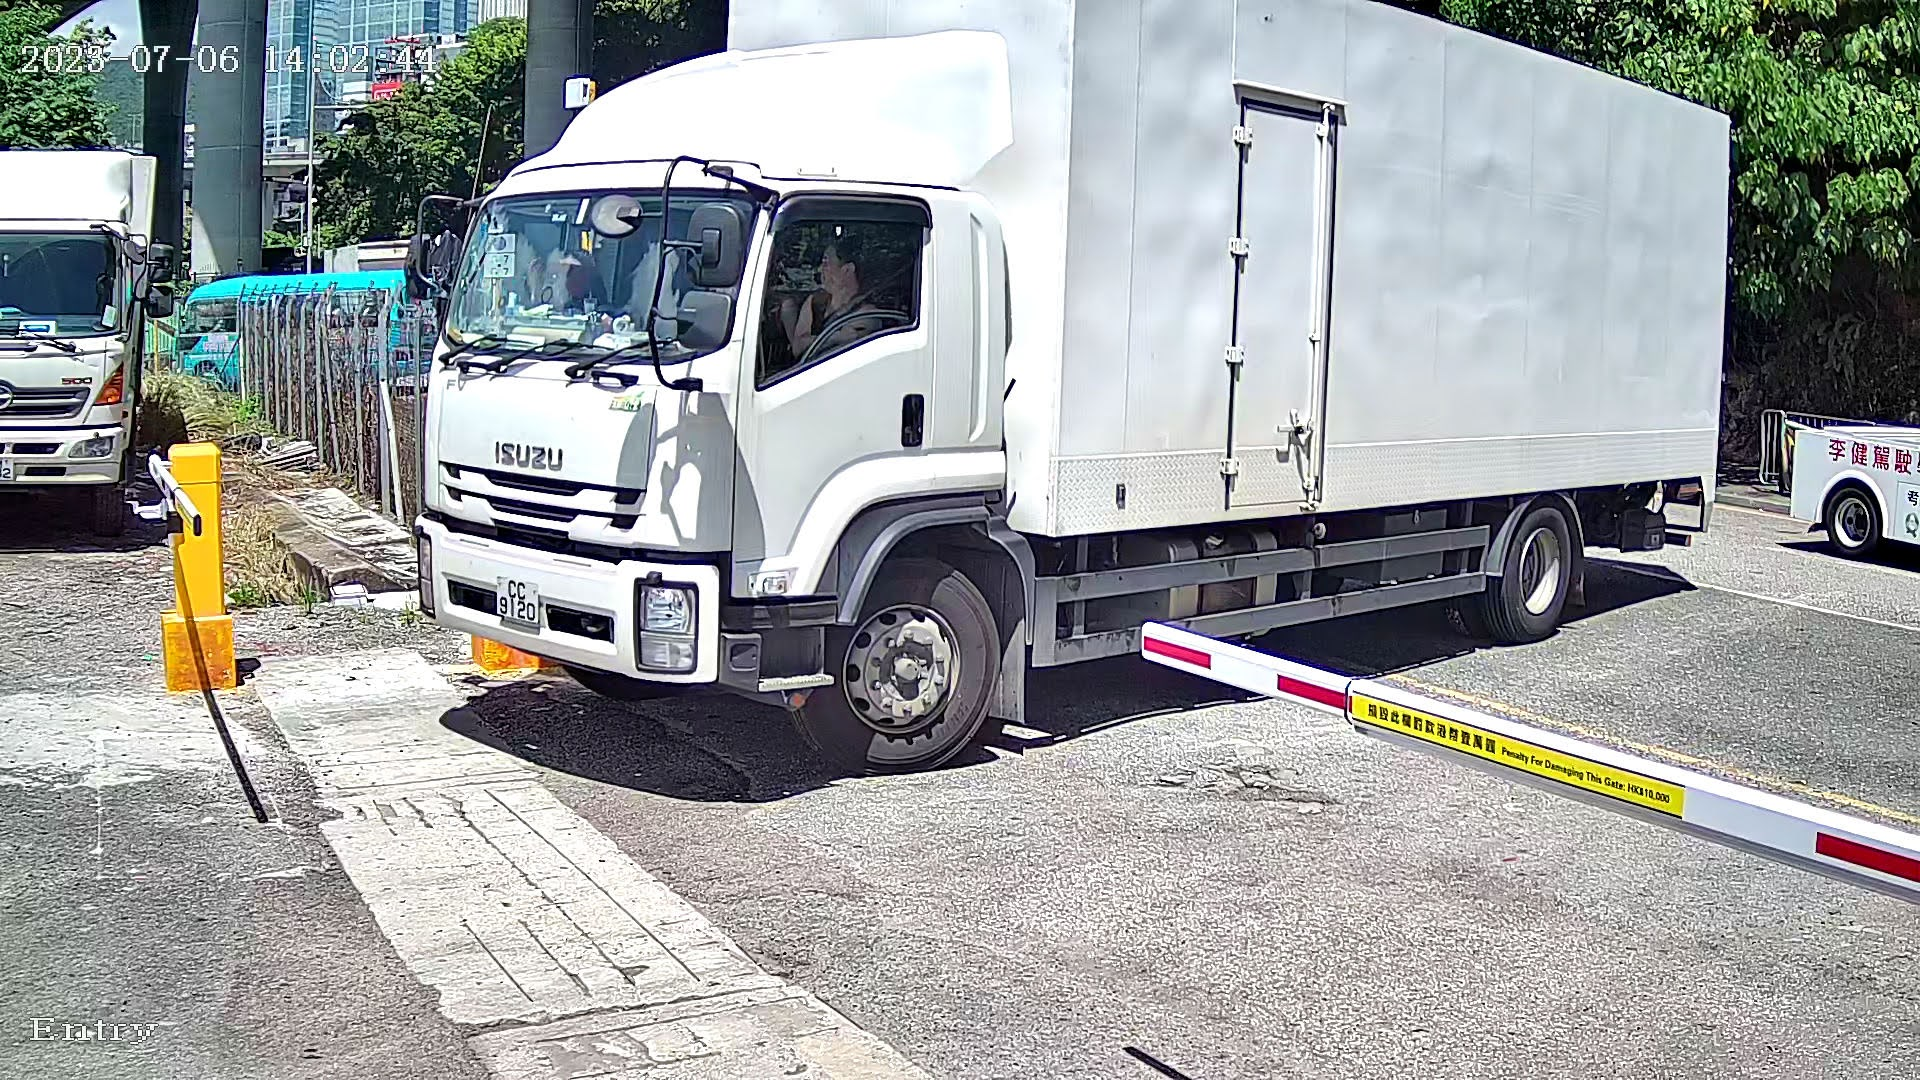truck: (375, 1, 1804, 789)
